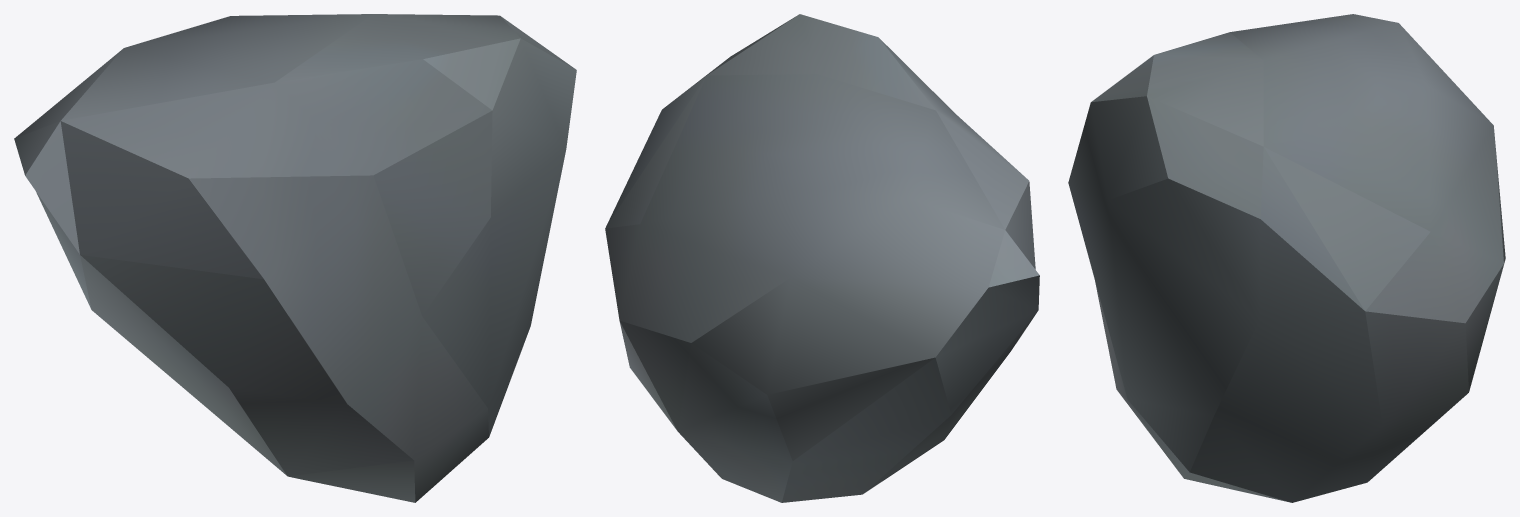
The model's file is kk-rock.lod.glb.
The picture shows the model from 3 angles, left to right: view 1: azimuth 30°, elevation 25°; view 2: azimuth 150°, elevation 25°; view 3: azimuth 270°, elevation 25°; orthographic projection. The views are drawn at different scales.
Visible parts, largest first — view 1: Rock_3_A_Color1; view 2: Rock_3_A_Color1; view 3: Rock_3_A_Color1.
Boxes of the visible parts, <box> form: Rock_3_A_Color1: <box>14,14,576,502</box>; Rock_3_A_Color1: <box>605,14,1039,502</box>; Rock_3_A_Color1: <box>1068,14,1505,502</box>.
Bounding box in the file's own units: 0.9563 × 0.8589 × 0.8075.
1 material, 1 textured.
